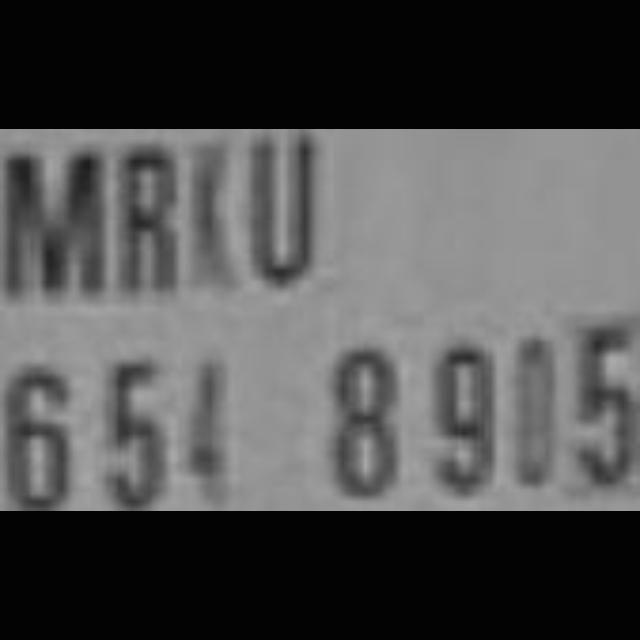0: (502, 325, 568, 511)
4: (175, 341, 247, 511)
5: (566, 313, 640, 511), (94, 351, 184, 511)
6: (0, 356, 84, 512)
8: (323, 336, 402, 508)
9: (427, 334, 503, 508)
i: (182, 129, 242, 301)
m: (1, 129, 118, 305)
r: (114, 129, 188, 307)
u: (242, 129, 322, 309)
